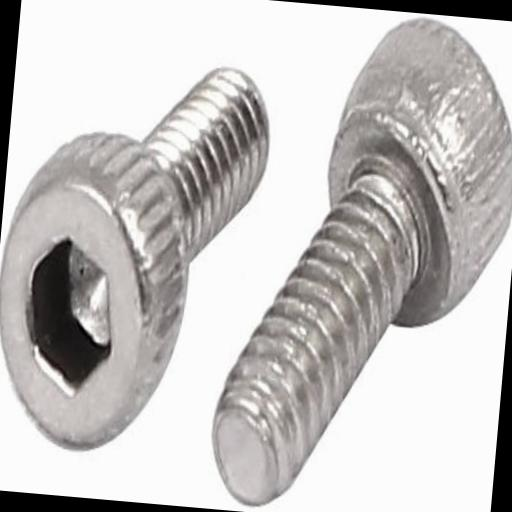Hex-Allen: (0, 127, 200, 462)
